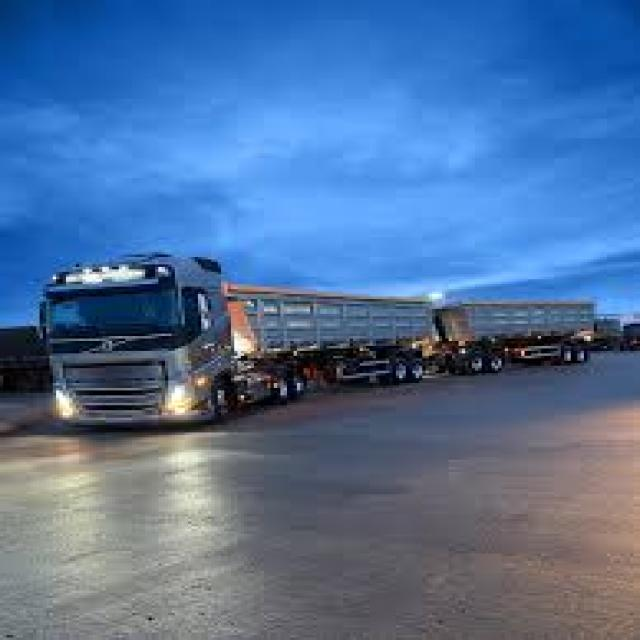truck: (24, 178, 632, 431)
